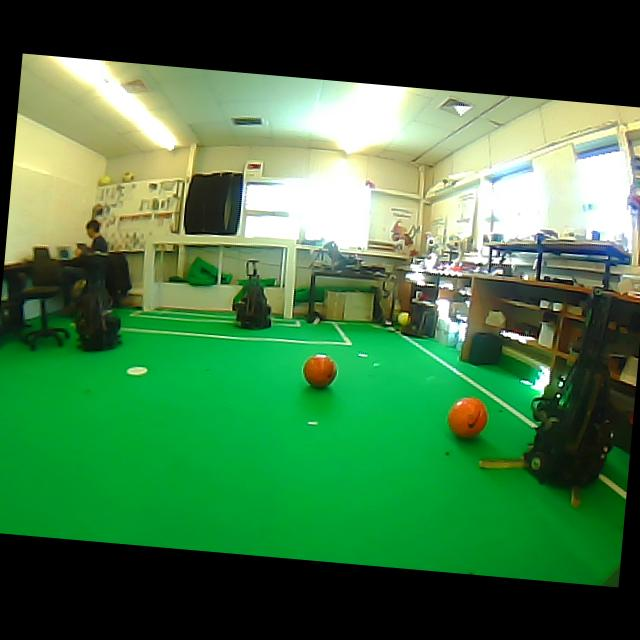ball: (447, 396, 487, 437), (303, 353, 336, 387), (397, 311, 409, 325), (97, 174, 112, 185), (121, 171, 133, 181)
goal: (282, 239, 295, 317), (142, 235, 155, 311)
robot: (524, 293, 611, 486), (75, 254, 121, 350), (233, 259, 271, 328)
